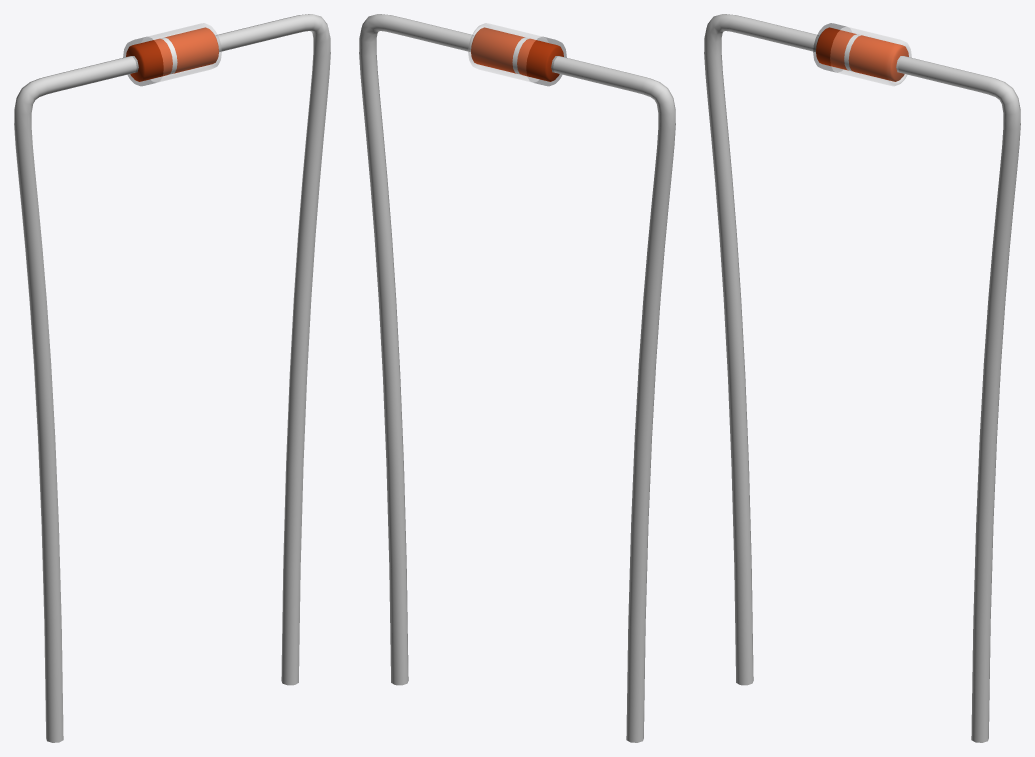
Rendered from diode_zener.glb.
The picture shows the model from 3 angles, left to right: view 1: azimuth 30°, elevation 25°; view 2: azimuth 150°, elevation 25°; view 3: azimuth 330°, elevation 25°; orthographic projection.
Visible parts, largest first — view 1: Legs.010, Diode-Body, Diode-Zener; view 2: Legs.010, Diode-Body, Diode-Zener; view 3: Legs.010, Diode-Body, Diode-Zener.
Part boxes in pixels (<box>): Legs.010: <box>14,14,330,742</box>; Diode-Body: <box>123,23,221,85</box>; Diode-Zener: <box>126,27,218,81</box>; Legs.010: <box>359,14,675,742</box>; Diode-Body: <box>468,23,566,85</box>; Diode-Zener: <box>471,27,563,81</box>; Legs.010: <box>704,14,1020,742</box>; Diode-Body: <box>813,23,911,85</box>; Diode-Zener: <box>816,27,908,81</box>.
Bounding box in the file's own units: 0.01 × 0.0207 × 0.00131.
